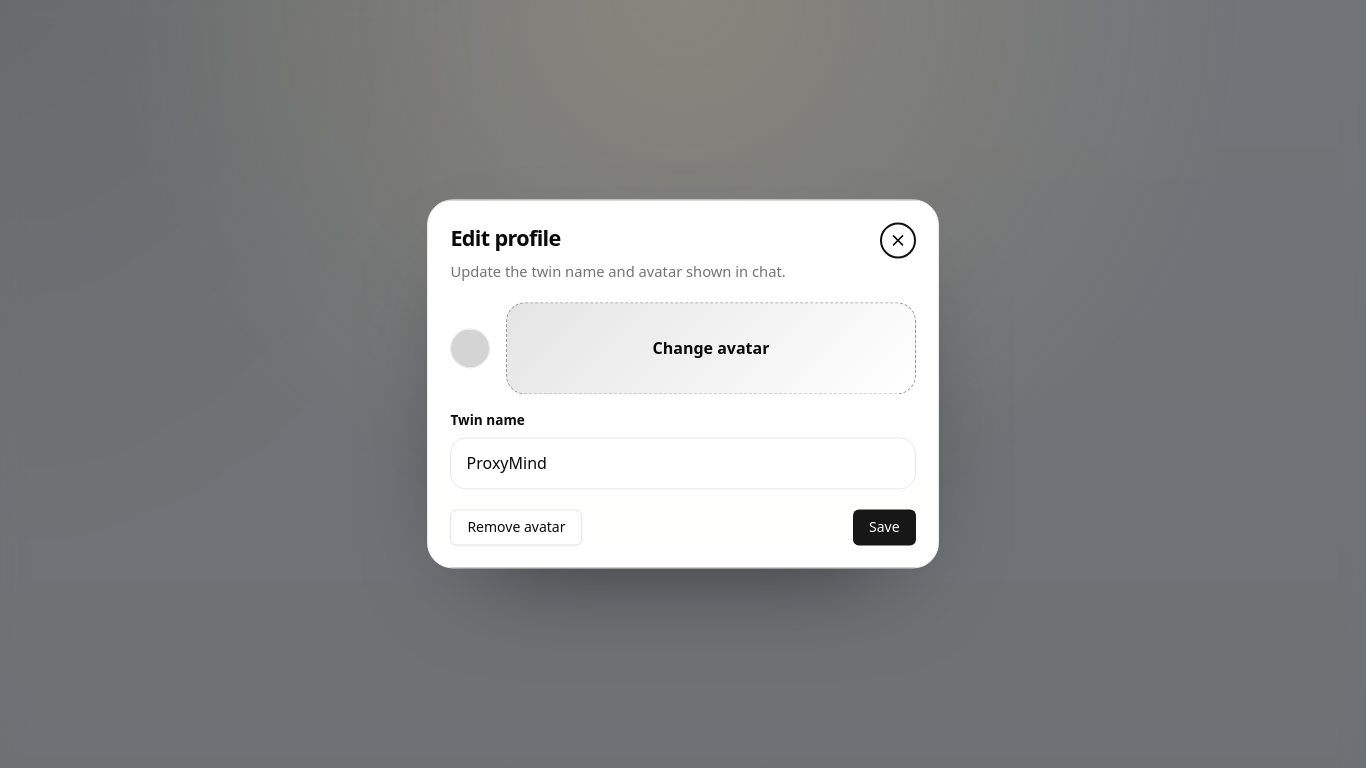
ProfileEditModal › keeps the avatar visible and shows an error when removal fails
The width and height of the screenshot is (1366, 768).
Click the button "Remove avatar": (516, 527) left=450, top=509, right=582, bottom=545
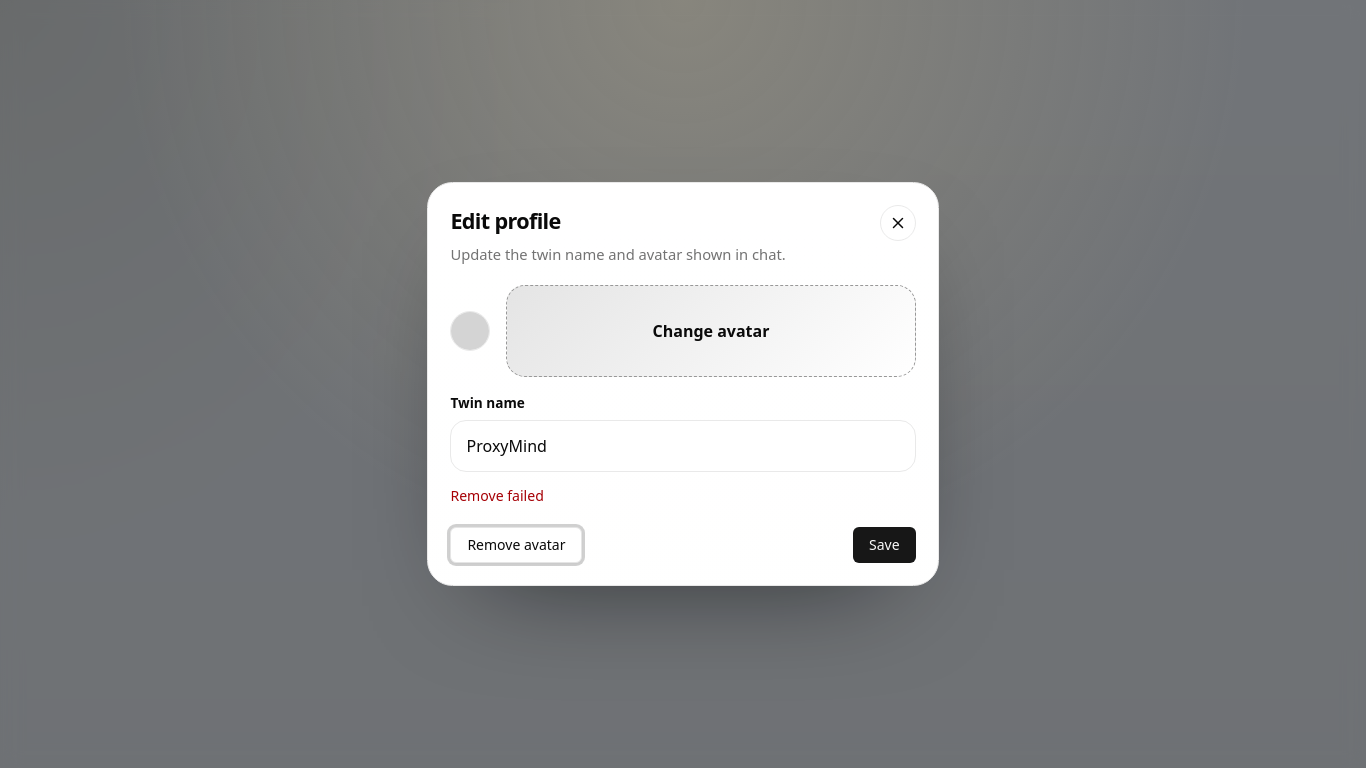
Expected: the message reads "Remove failed", left=450, top=486, right=544, bottom=505
